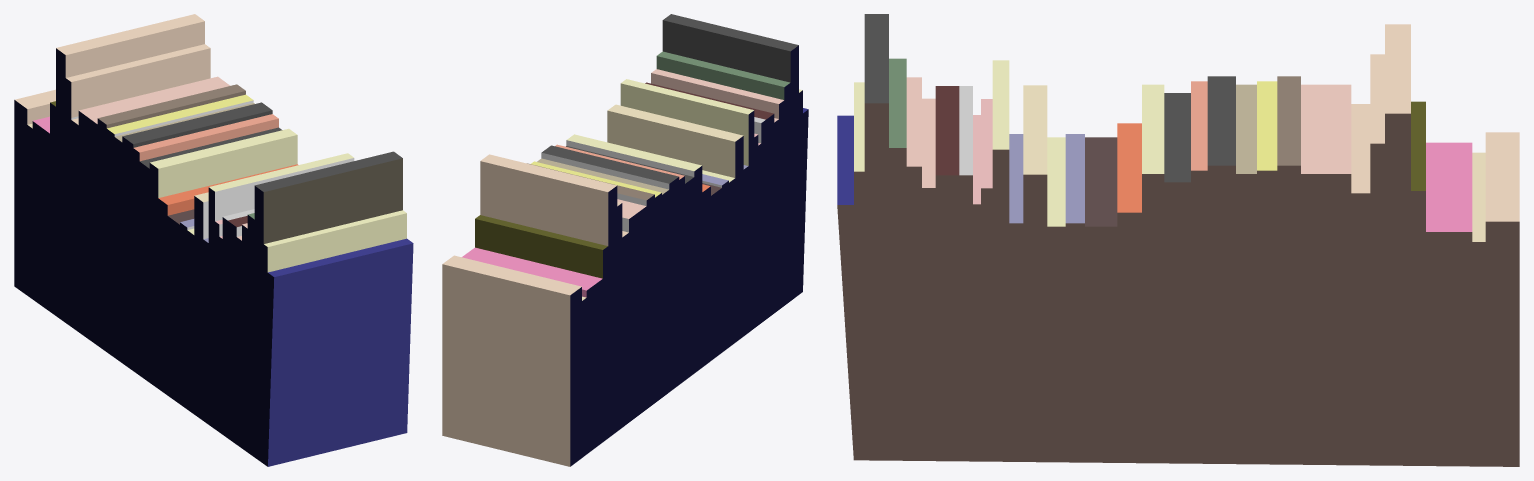
The picture shows the model from 3 angles, left to right: view 1: azimuth 30°, elevation 25°; view 2: azimuth 150°, elevation 25°; view 3: azimuth 270°, elevation 25°; orthographic projection. The views are drawn at different scales.
Visible parts, largest first — view 1: Mesh1_Model; view 2: Mesh1_Model; view 3: Mesh1_Model.
Boxes of the visible parts, left/top/right/bottom form: Mesh1_Model: left=14, top=14, right=413, bottom=466; Mesh1_Model: left=442, top=14, right=808, bottom=466; Mesh1_Model: left=837, top=14, right=1519, bottom=466.
Bounding box in the file's own units: 0.5254 × 0.9975 × 1.7.
